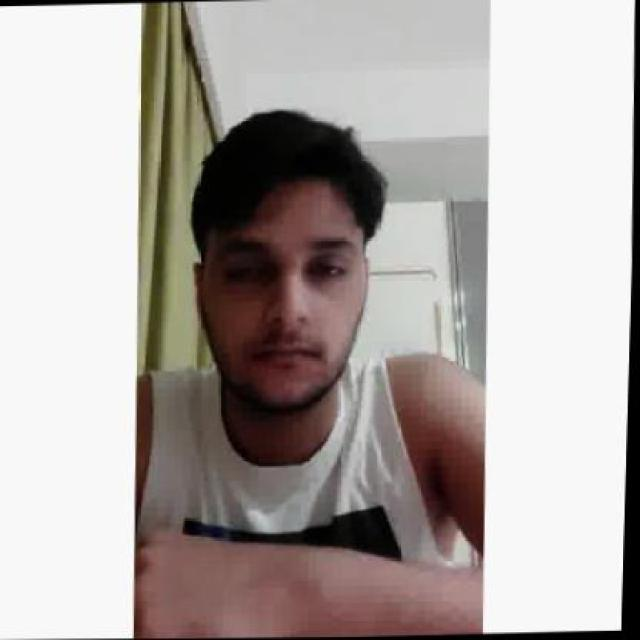inattentif: (182, 102, 376, 416)
